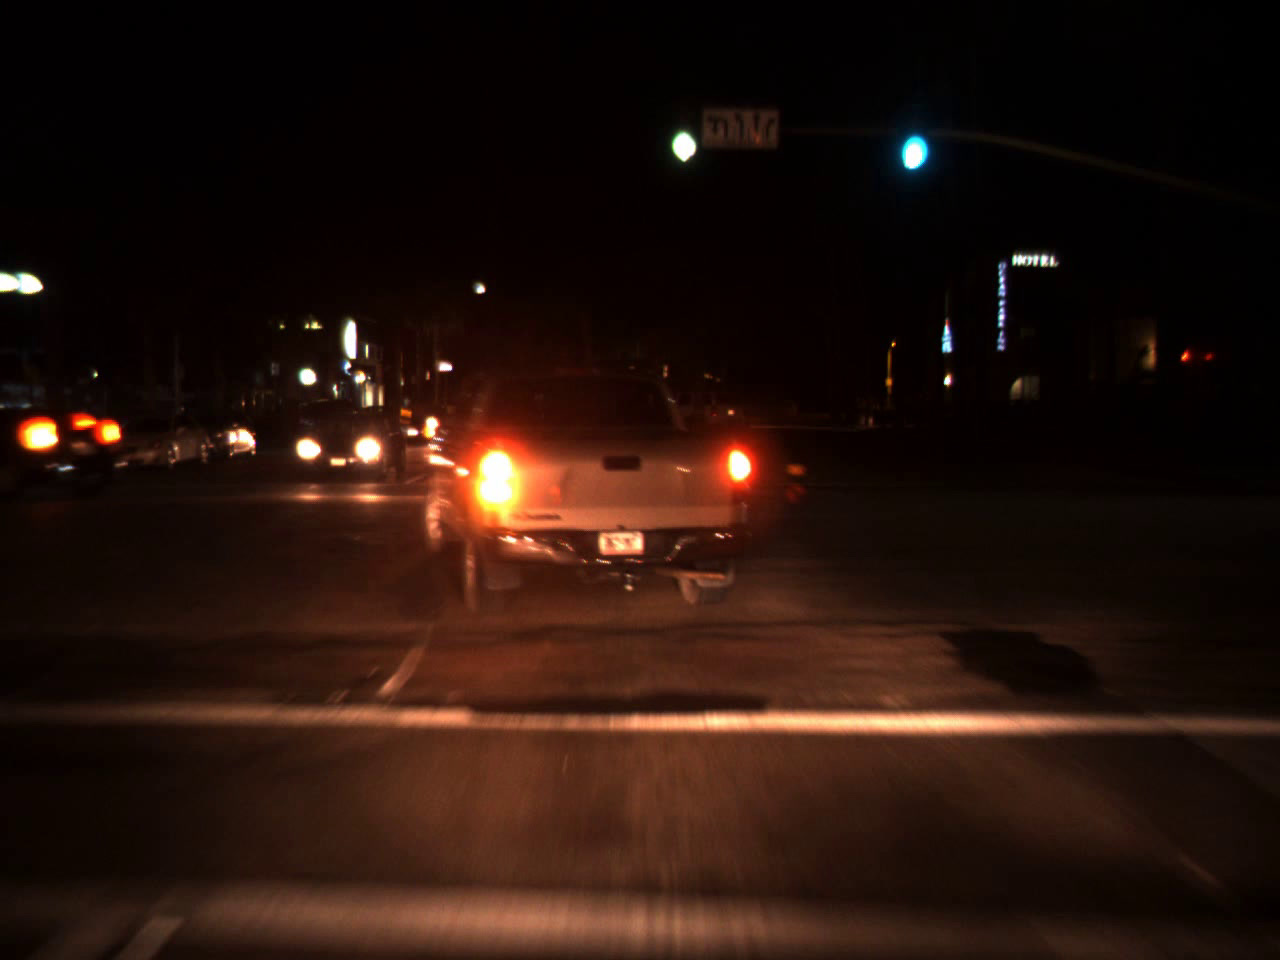go: (888, 103, 931, 181), (663, 98, 700, 170)
